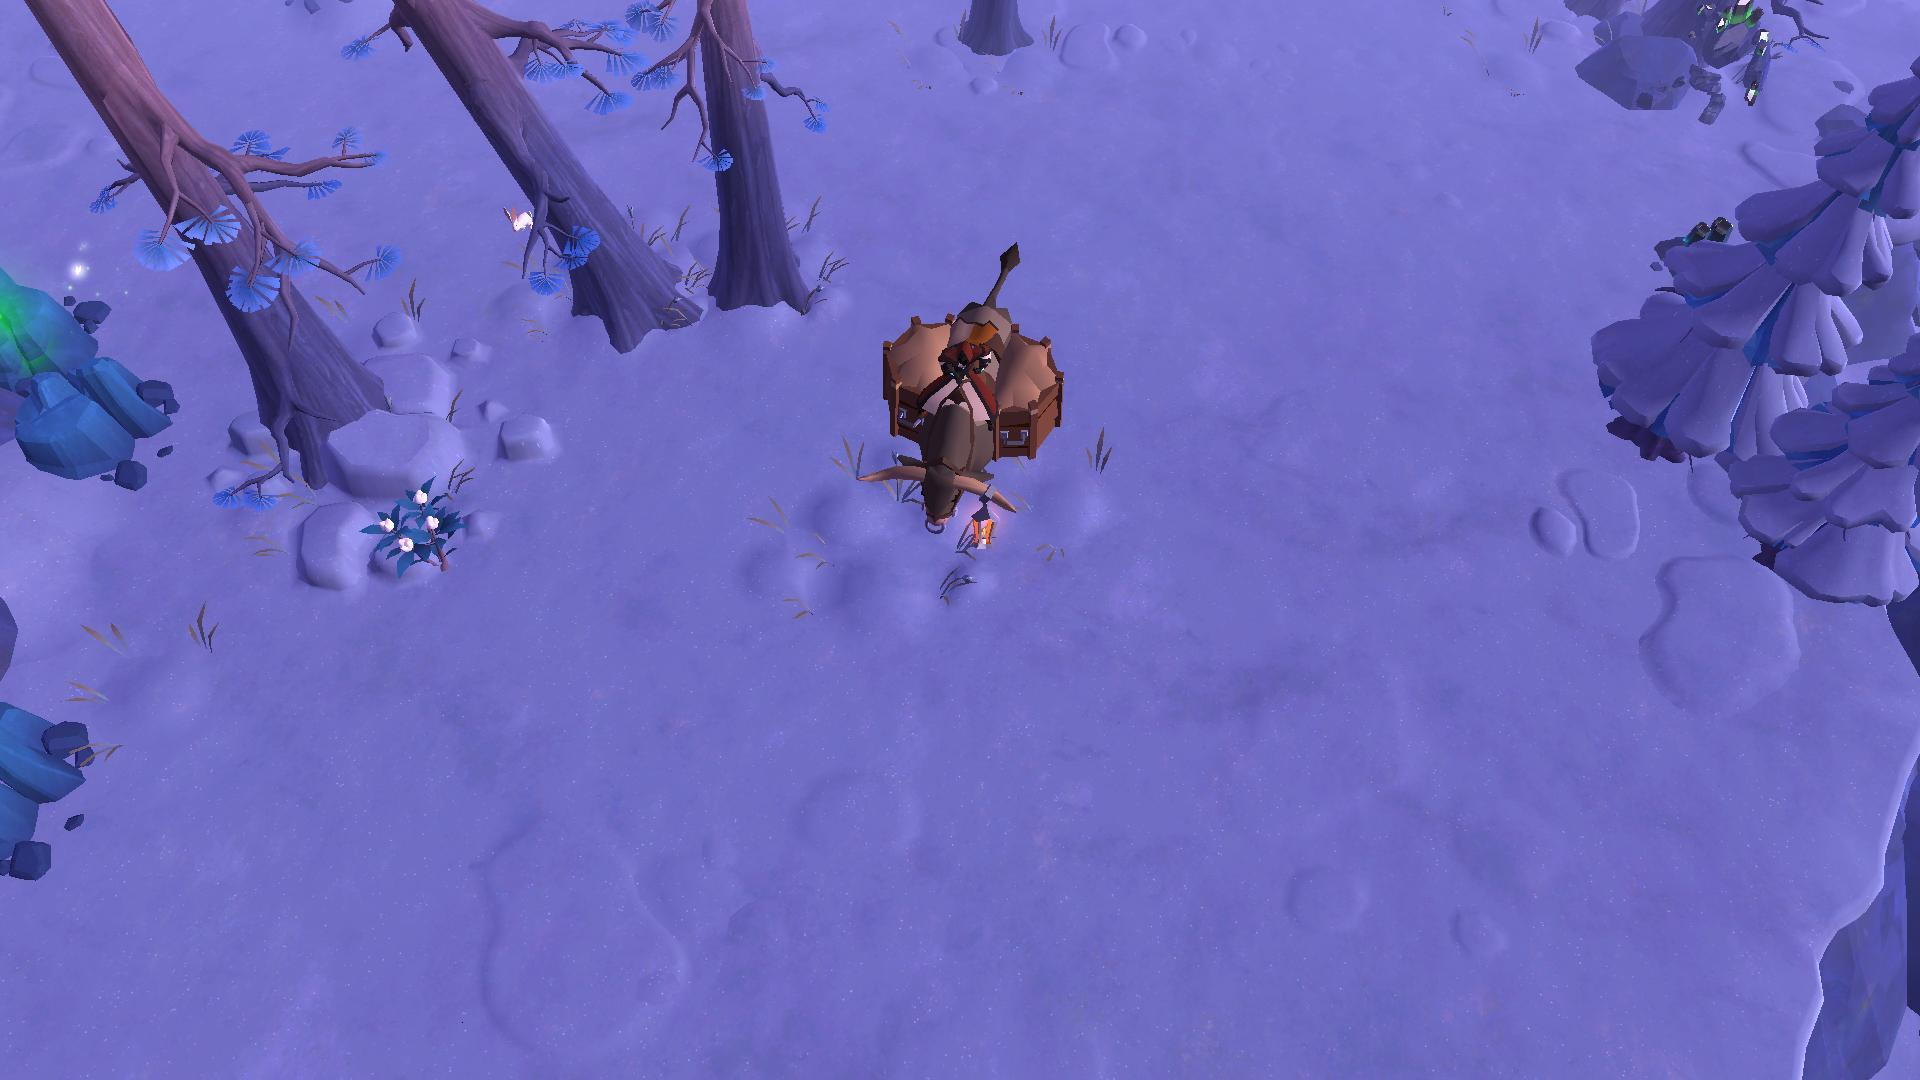fiber_t4: (367, 480, 460, 576)
rock_t4: (0, 351, 179, 484), (0, 265, 105, 397), (0, 678, 62, 884)
